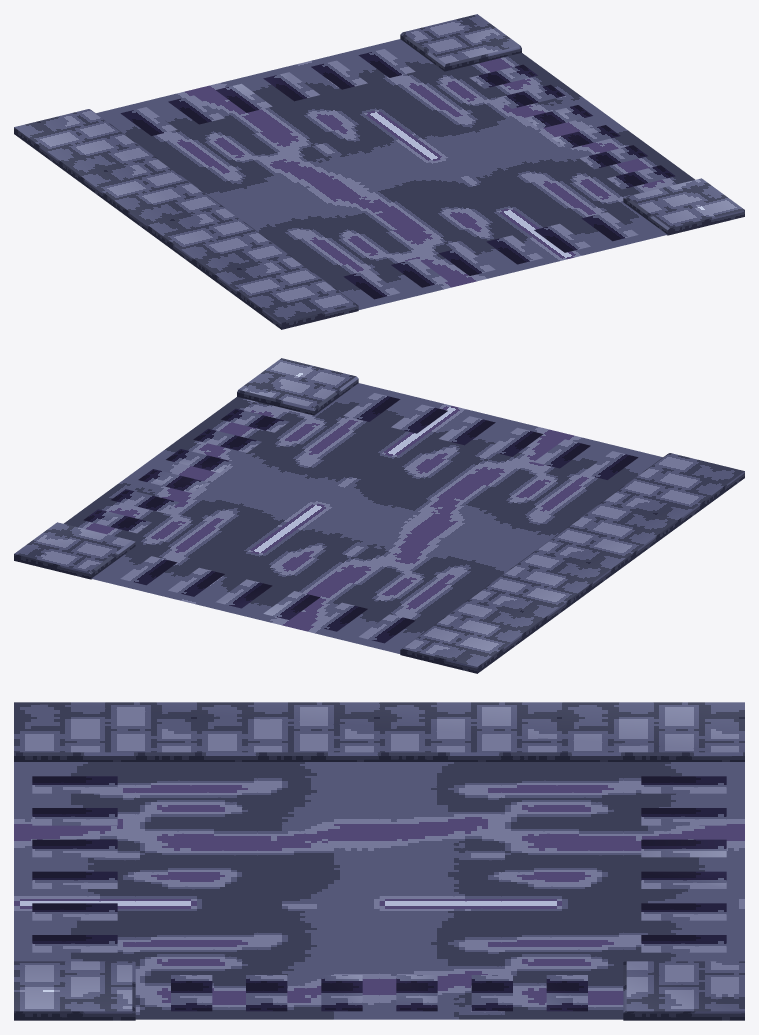
File: cystreet.tee.glb
The picture shows the model from 3 angles, top to bottom: view 1: azimuth 30°, elevation 25°; view 2: azimuth 150°, elevation 25°; view 3: azimuth 270°, elevation 25°; orthographic projection. The views are drawn at different scales.
Visible parts, largest first — view 1: kit_shell_road, kit_walks, kit_card_paint; view 2: kit_shell_road, kit_walks, kit_card_paint; view 3: kit_shell_road, kit_walks, kit_card_paint.
Boxes of the visible parts, x1,y1,x2,y2 form: kit_shell_road: [96, 39, 694, 309]; kit_walks: [14, 14, 744, 329]; kit_card_paint: [120, 49, 675, 299]; kit_shell_road: [64, 383, 662, 653]; kit_walks: [14, 358, 744, 673]; kit_card_paint: [83, 393, 638, 643]; kit_shell_road: [14, 762, 744, 1019]; kit_walks: [14, 702, 744, 1020]; kit_card_paint: [32, 776, 726, 1011].
Bounding box in the file's own units: 12 × 0.17 × 12.
4 materials, 4 textured.
